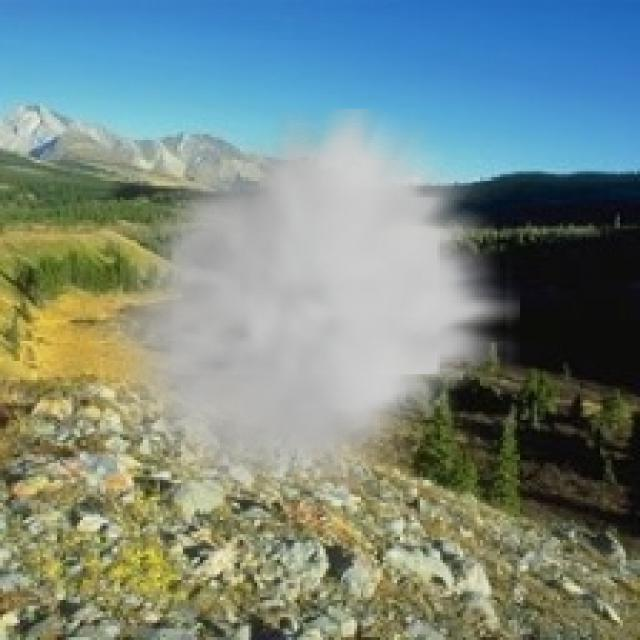smoke: (94, 109, 520, 500)
